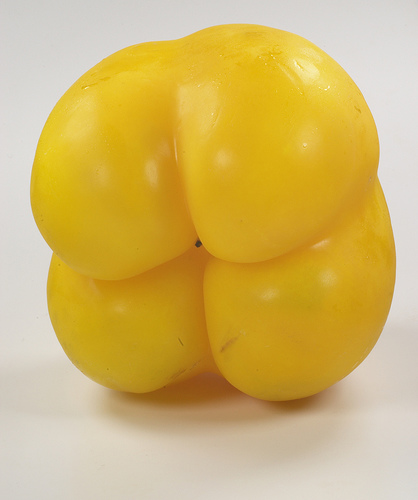capsicum: (28, 21, 396, 402)
